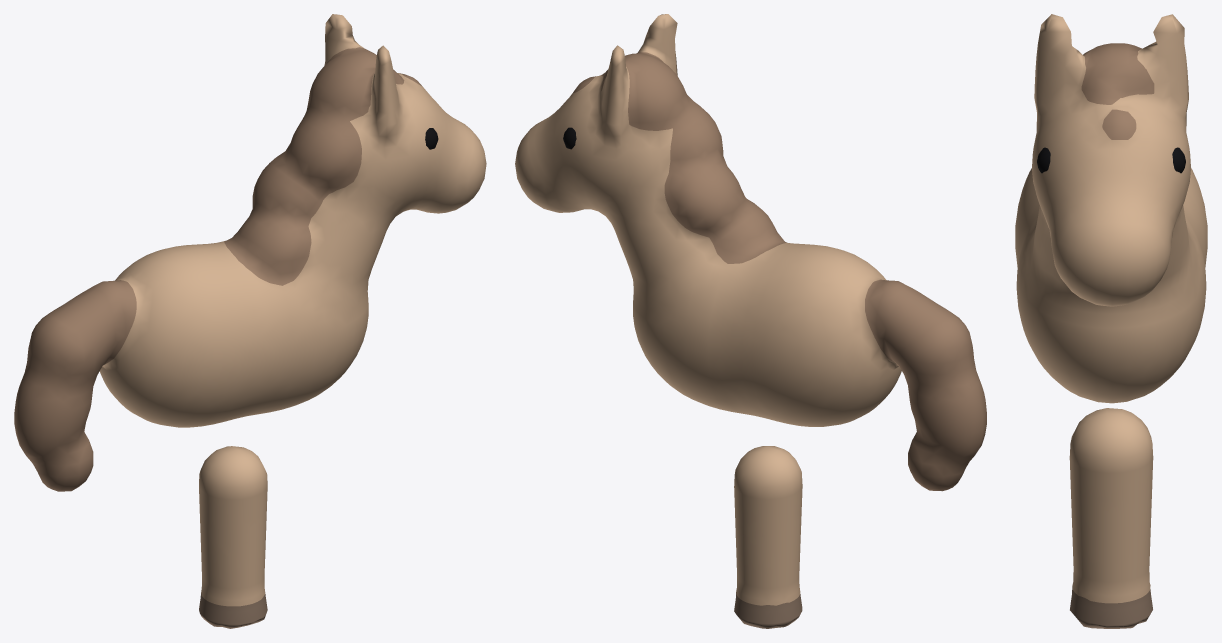
Rendered from horse_foal.glb.
3 renders of one model, left to right at view 1: azimuth 30°, elevation 25°; view 2: azimuth 150°, elevation 25°; view 3: azimuth 270°, elevation 25°, orthographic. The views are drawn at different scales.
Visible parts, largest first — view 1: body, leg; view 2: body, leg; view 3: body, leg, eye.
Part boxes in pixels (x1,y1,x2,y2): body: (14,14,486,491); leg: (199,446,267,628); body: (515,14,986,491); leg: (734,446,802,628); body: (1015,14,1207,403); leg: (1069,408,1153,628); eye: (1037,147,1185,173).
Size of the model in its own units: 2.62 by 3.01 by 0.7759.
